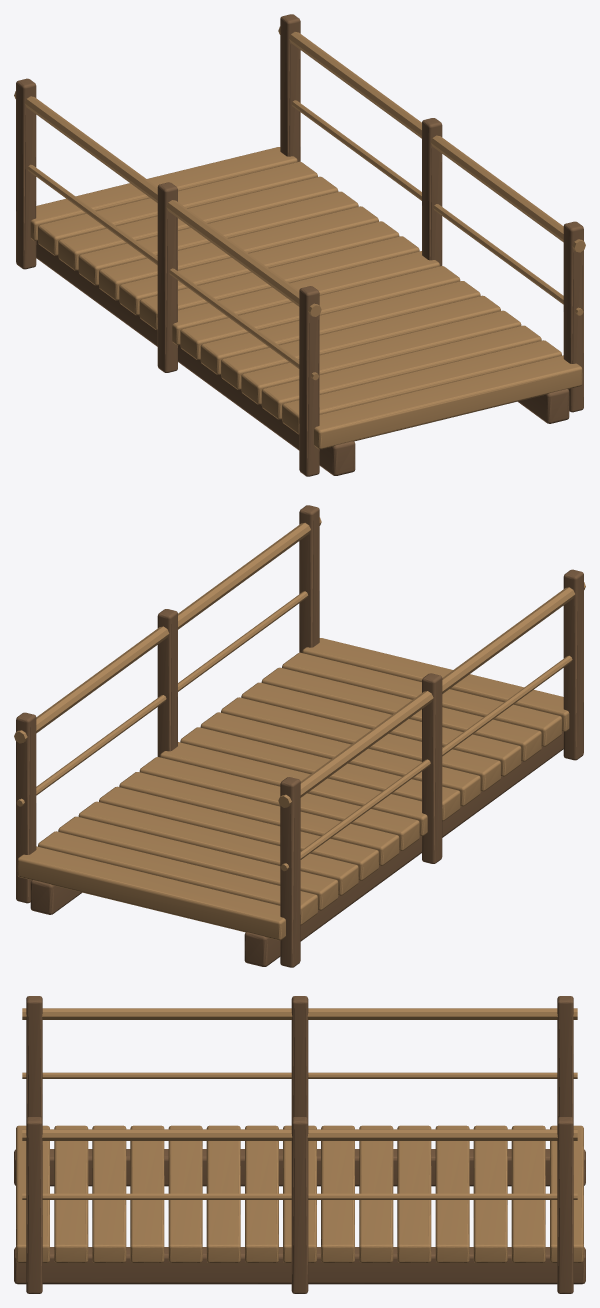
The model's file is timber_bridge.glb.
3 renders of one model, top to bottom at view 1: azimuth 30°, elevation 25°; view 2: azimuth 150°, elevation 25°; view 3: azimuth 270°, elevation 25°, orthographic. The views are drawn at different scales.
Visible parts, largest first — view 1: Keep_Mesh, Occlude_RailingL_Mesh, Occlude_RailingR_Mesh; view 2: Keep_Mesh, Occlude_RailingL_Mesh, Occlude_RailingR_Mesh; view 3: Keep_Mesh, Occlude_RailingL_Mesh, Occlude_RailingR_Mesh.
Boxes of the visible parts, left/top/right/bottom form: Keep_Mesh: left=16, top=14, right=583, bottom=476; Occlude_RailingL_Mesh: left=14, top=91, right=321, bottom=380; Occlude_RailingR_Mesh: left=278, top=26, right=585, bottom=315; Keep_Mesh: left=16, top=505, right=583, bottom=967; Occlude_RailingL_Mesh: left=278, top=582, right=585, bottom=871; Occlude_RailingR_Mesh: left=14, top=517, right=321, bottom=806; Keep_Mesh: left=14, top=996, right=585, bottom=1293; Occlude_RailingL_Mesh: left=22, top=1008, right=577, bottom=1078; Occlude_RailingR_Mesh: left=22, top=1129, right=577, bottom=1199.
Size of the model in its own units: 2.21 by 1.4 by 4.2.
